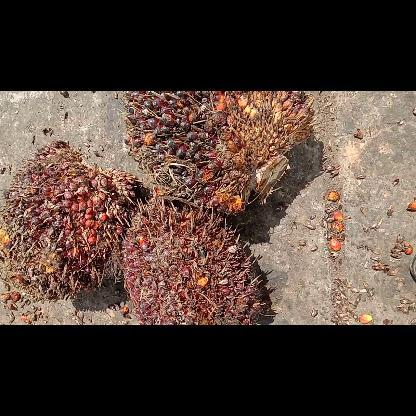Kurang masak: (0, 138, 137, 301)
TBS masak: (119, 91, 316, 217), (119, 194, 268, 324)
